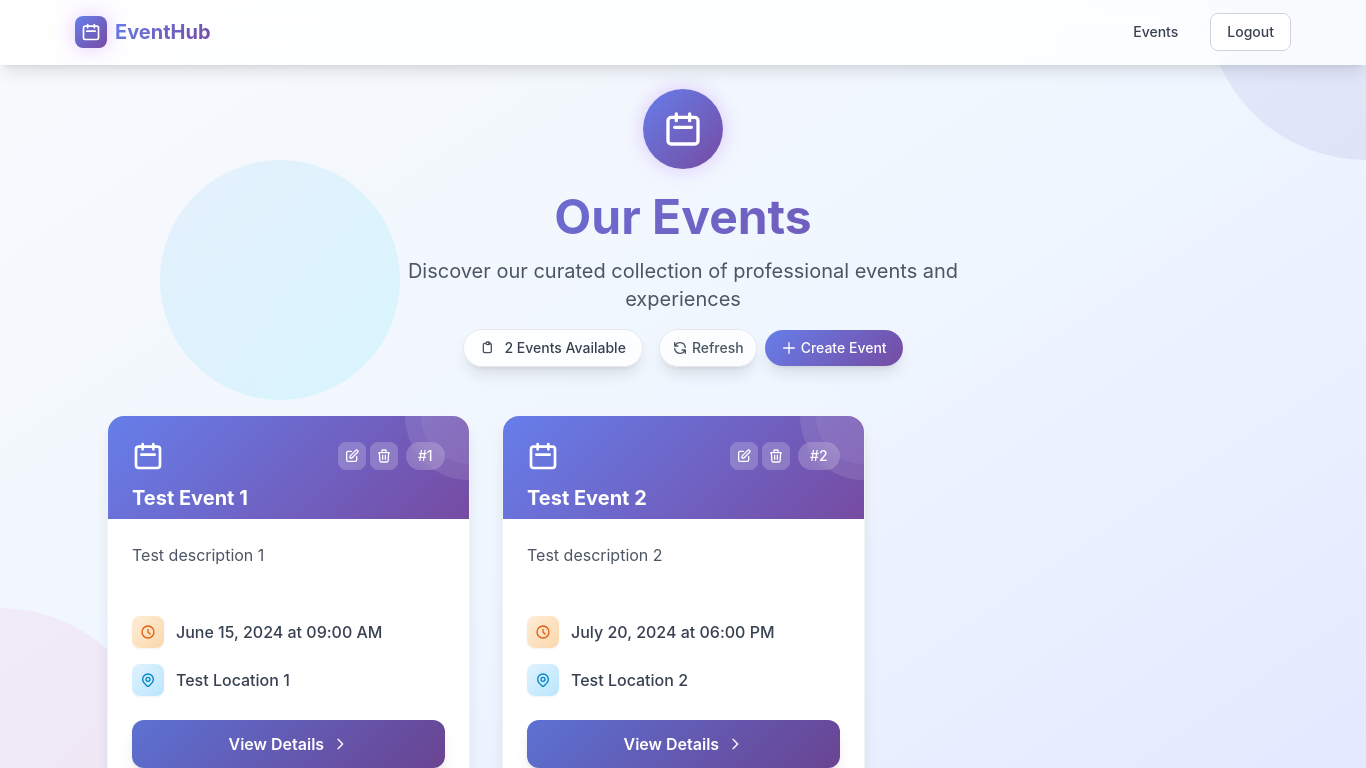
Events Component - Delete Functionality › Admin Delete Controls › should handle delete API errors gracefully
Check: the heading "Test Event 1" is shown, box [132,486,248,510]
Click the 1st button titled "Delete Event" at {"x": 384, "y": 456}, box [370,442,398,470]
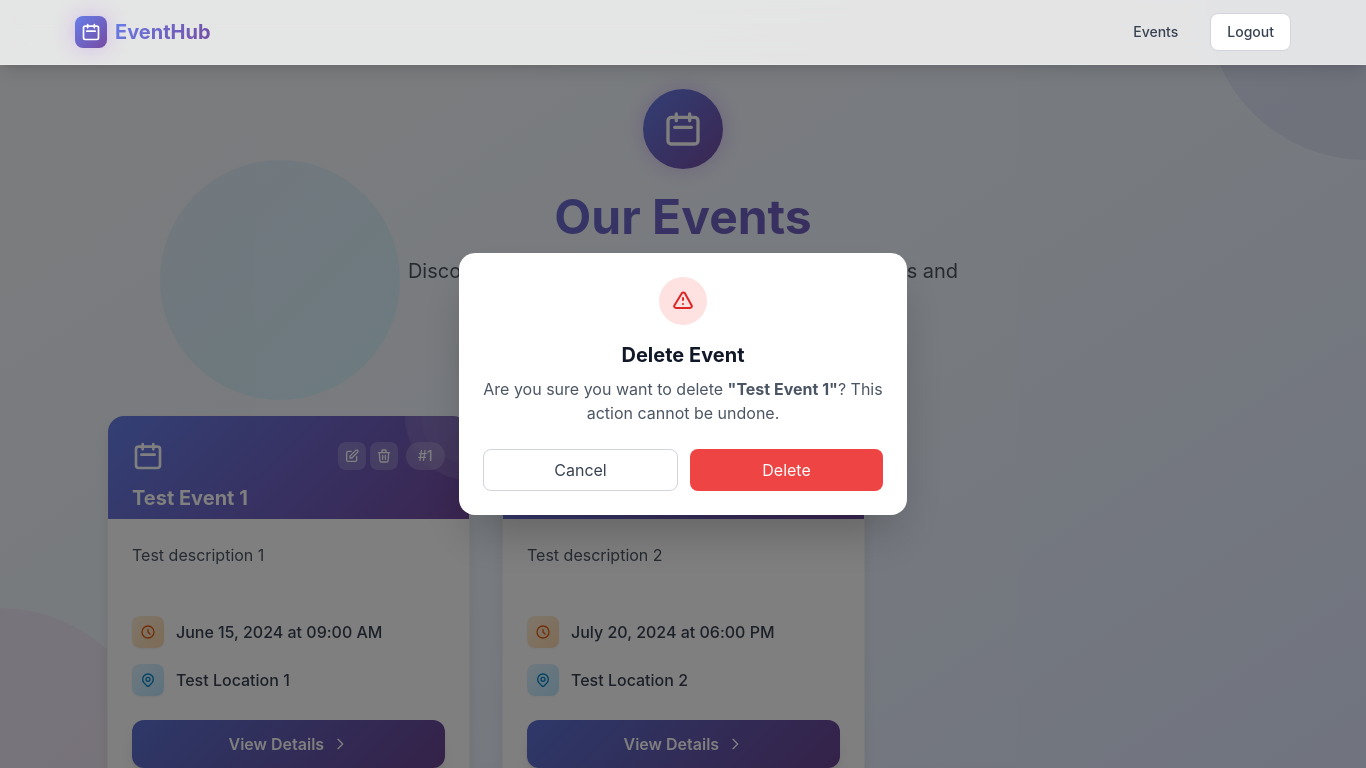
Check: the heading "Delete Event" is shown, box [622,343,744,367]
Click delete
Click the button "Delete" at {"x": 786, "y": 470}, box [690,449,883,491]
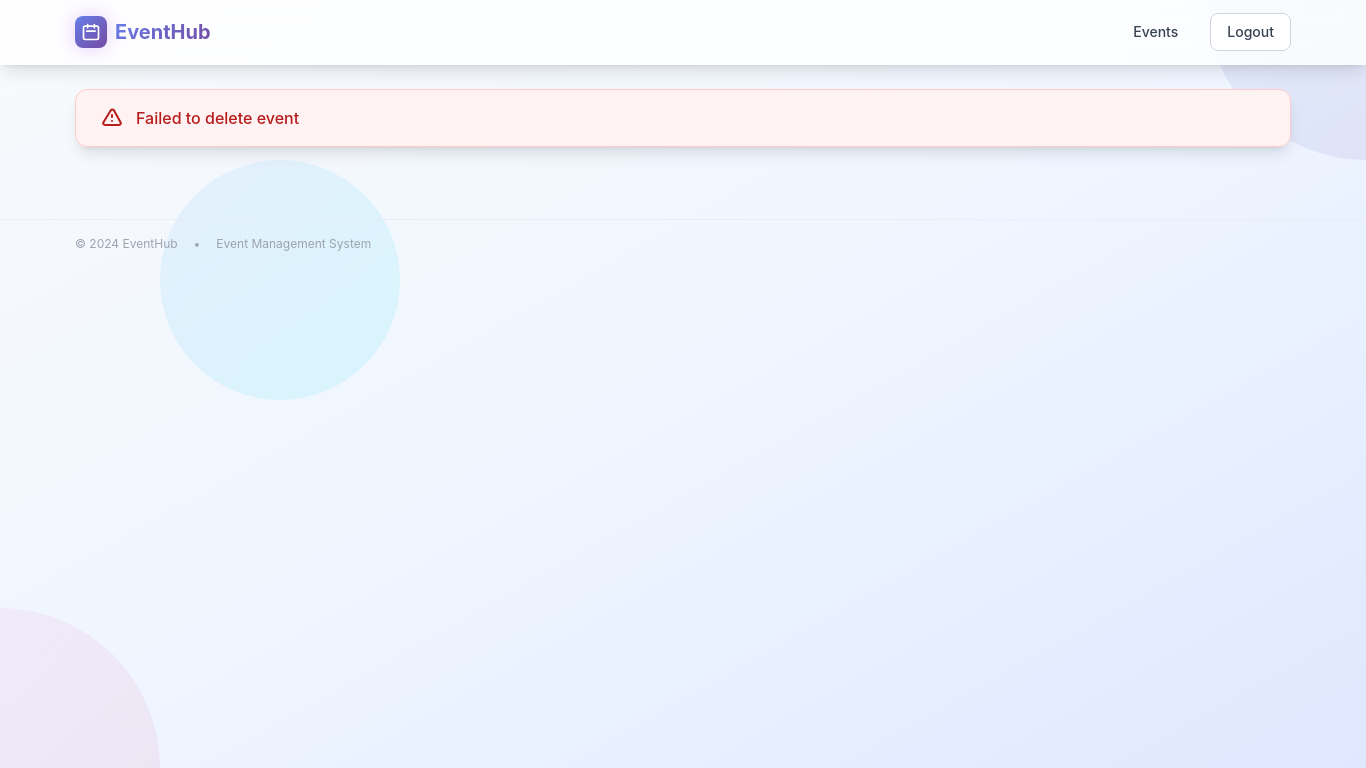
Check: the text "Failed to delete event" is shown, box [136,106,299,130]
